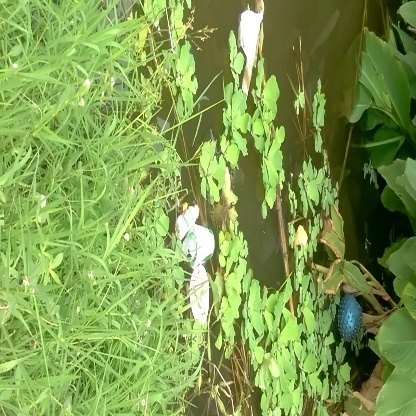ball: (333, 286, 368, 345)
